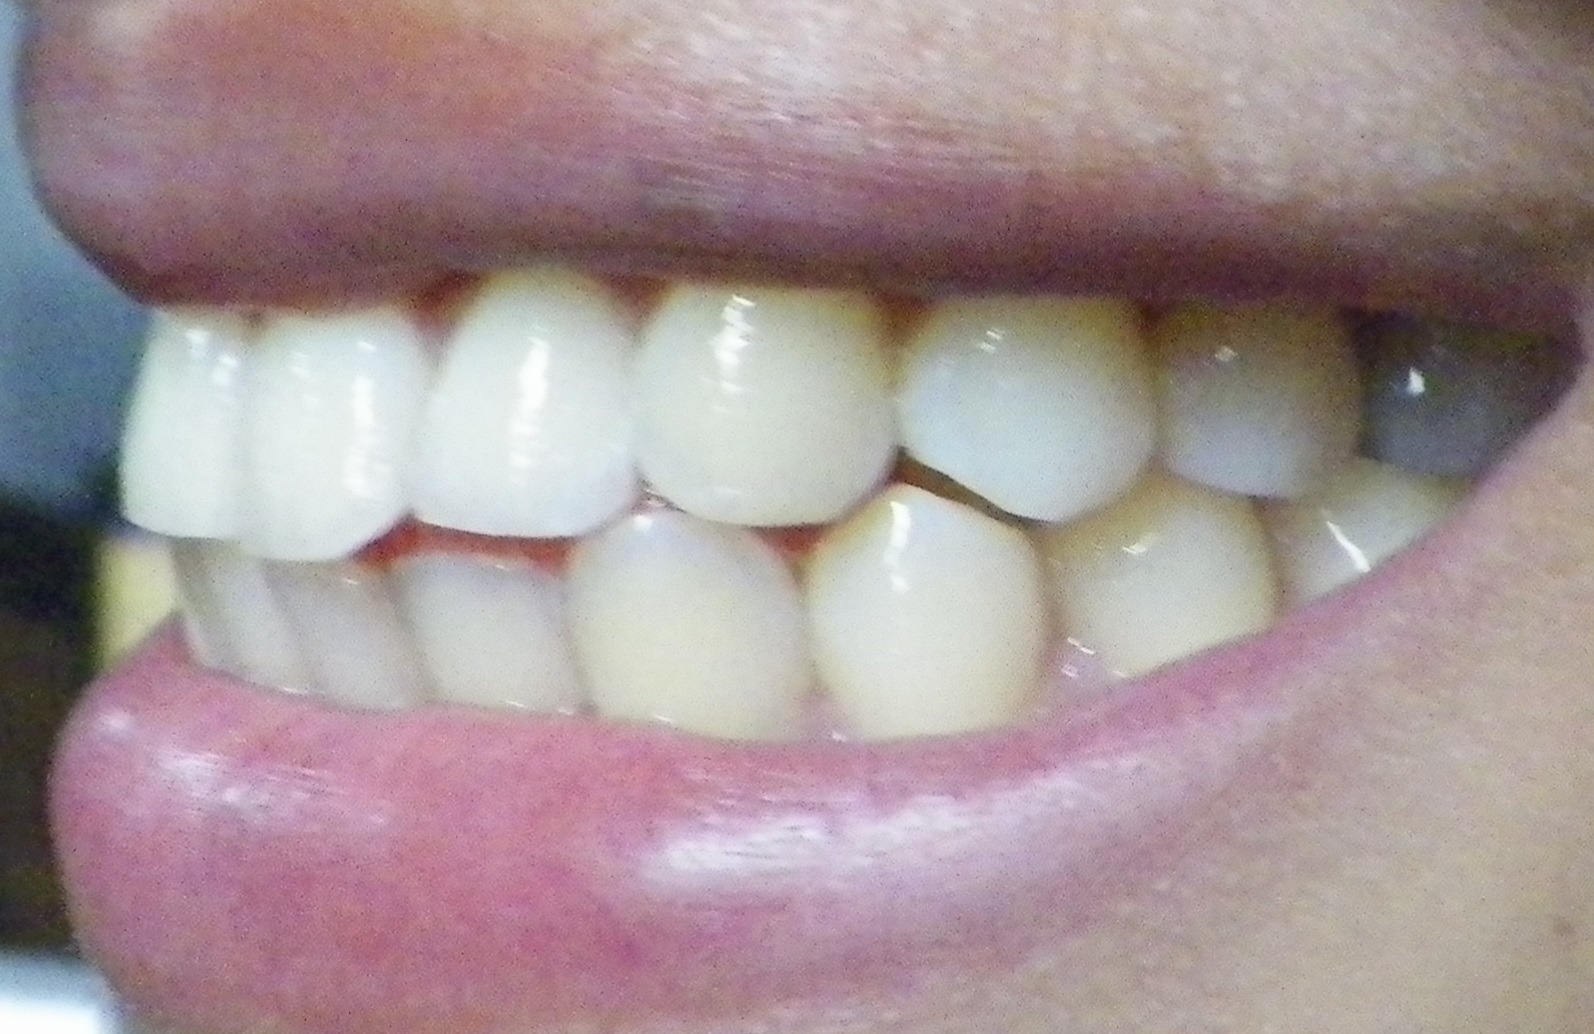boca: (109, 261, 1505, 735)
